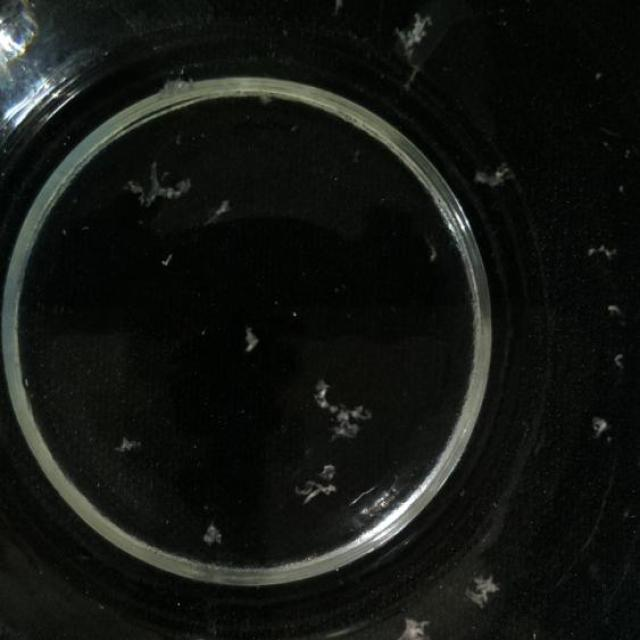fiber: (315, 378, 378, 442), (124, 155, 200, 205), (391, 6, 437, 68), (466, 152, 515, 196), (298, 455, 338, 508), (463, 563, 500, 609), (199, 509, 230, 556), (107, 422, 143, 460), (398, 618, 443, 639), (210, 193, 238, 223), (584, 238, 626, 258), (600, 292, 626, 323), (608, 340, 633, 370), (154, 243, 178, 271), (590, 408, 614, 436), (244, 321, 262, 355)
